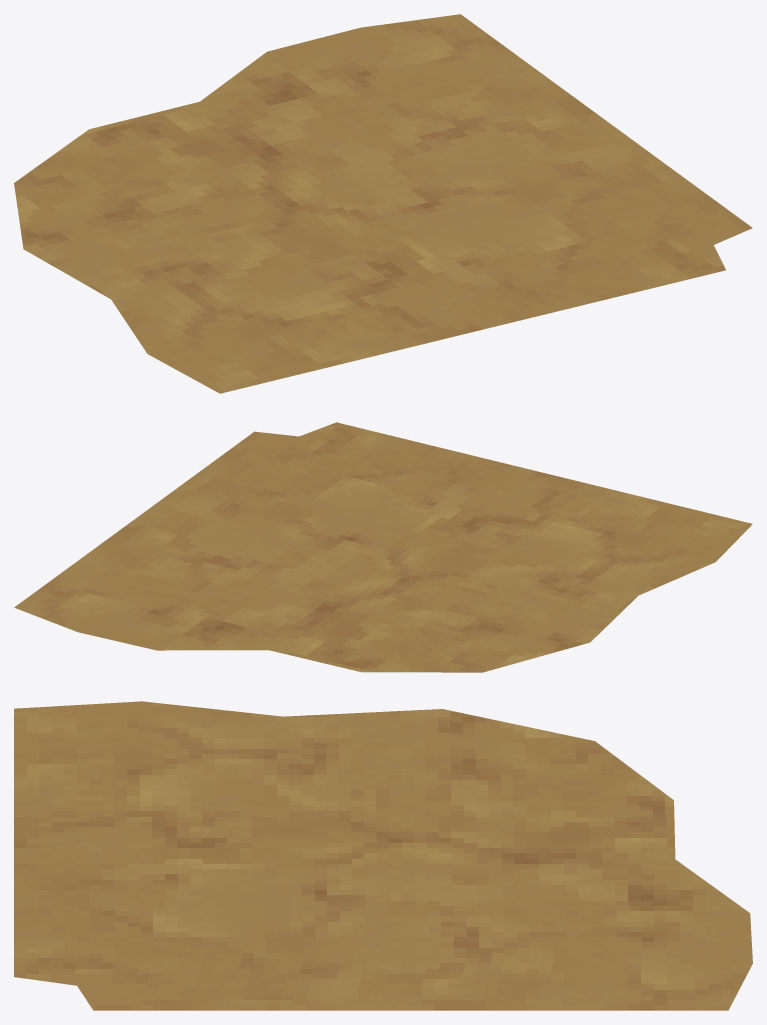
The model's file is Dirt Corner.fbx.
3 views of the same model, one above another, from view 1: azimuth 30°, elevation 25°; view 2: azimuth 150°, elevation 25°; view 3: azimuth 270°, elevation 25° (orthographic). The views are drawn at different scales.
Parts seen in each view (by area): view 1: Dirt_corner; view 2: Dirt_corner; view 3: Dirt_corner.
Boxes of the visible parts, box(x1,y1,x2,y2) form: Dirt_corner: box(14, 14, 752, 393); Dirt_corner: box(14, 422, 752, 672); Dirt_corner: box(14, 701, 752, 1010).
Bounding box in the file's own units: 0.9217 × 0 × 0.9309.
